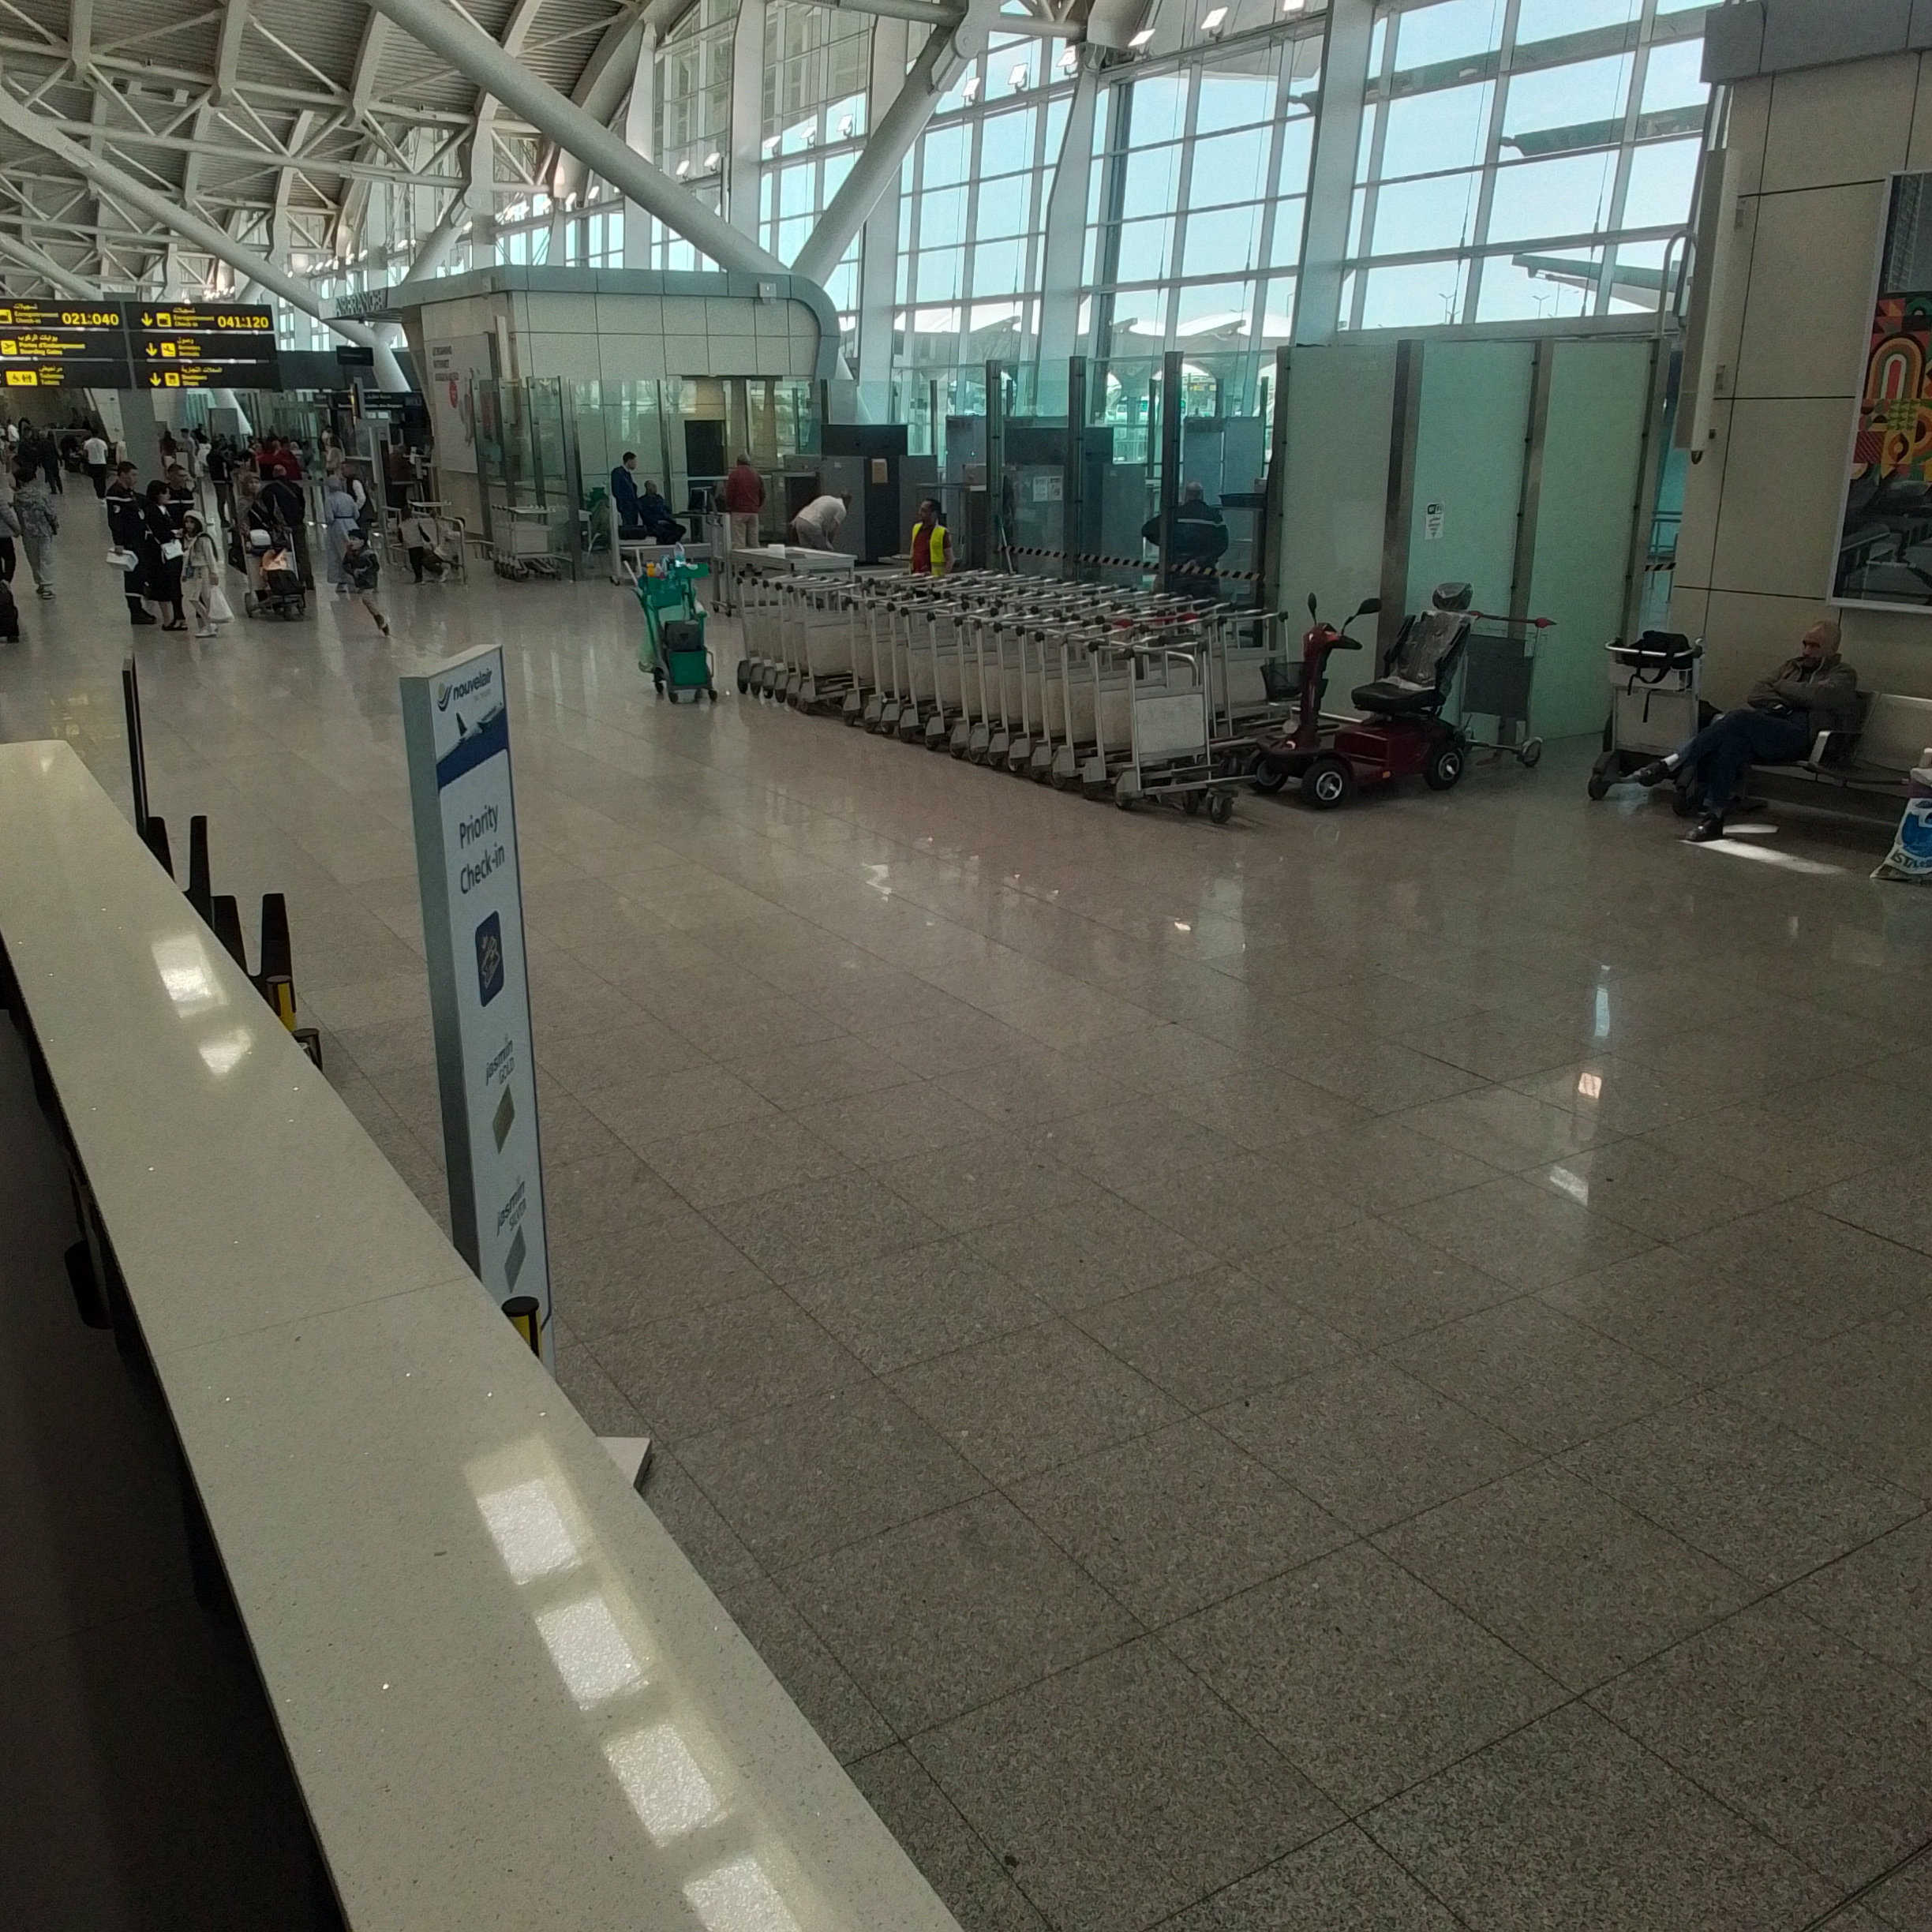airport-trolley: (1118, 642, 1256, 805), (1088, 635, 1180, 796), (1217, 614, 1322, 748), (1014, 610, 1092, 787), (1058, 626, 1127, 791), (1033, 625, 1095, 786), (962, 607, 1026, 761), (991, 616, 1037, 771), (800, 584, 858, 704), (775, 577, 826, 708), (761, 575, 807, 715), (789, 577, 839, 702), (950, 603, 985, 761), (899, 594, 927, 754), (927, 609, 957, 755), (867, 600, 892, 740)
